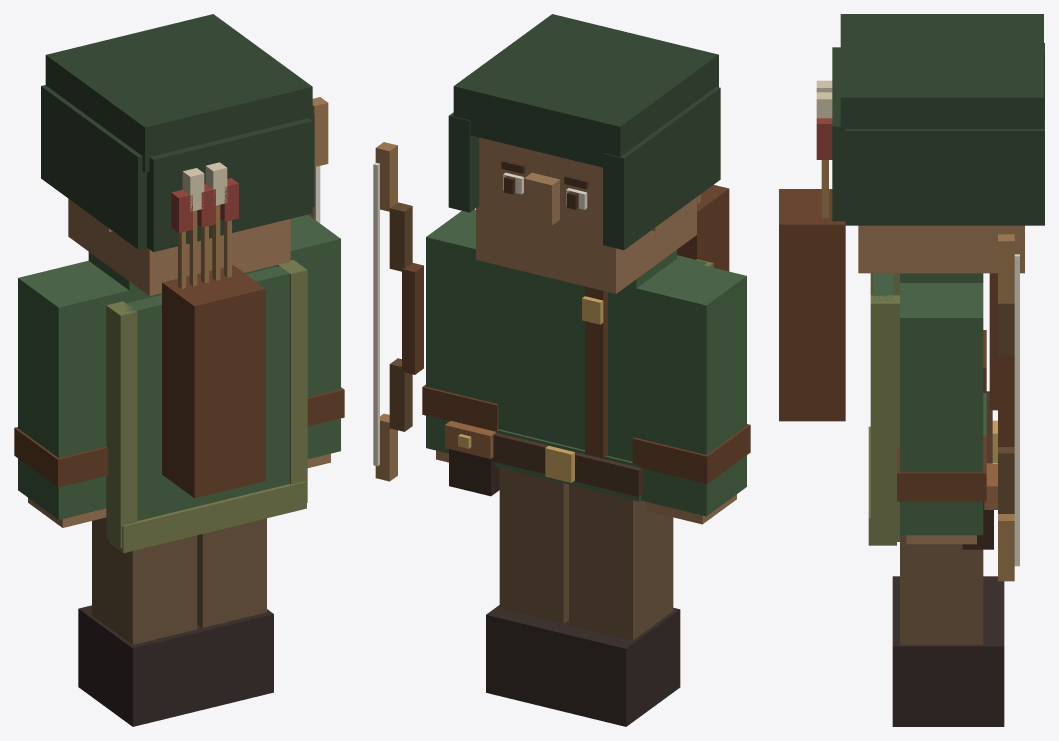
The model's file is hunter.obj.
3 views of the same model, side by side, from view 1: azimuth 30°, elevation 25°; view 2: azimuth 150°, elevation 25°; view 3: azimuth 270°, elevation 25° (orthographic). The views are drawn at different scales.
Parts seen in each view (by area): view 1: head_27_hood_top, equipment_back_40_quiver, right_arm_15_right_arm, equipment_back_31_back_cape, head_30_hood_rear, right_leg_23_right_boot, head_28_hood_left, right_leg_21_right_leg, left_arm_16_left_arm, equipment_back_32_cape_left_edge, head_3_head, left_leg_22_left_leg (+15 smaller); view 2: head_27_hood_top, right_arm_15_right_arm, body_0_chest, head_3_head, right_leg_21_right_leg, left_arm_16_left_arm, head_28_hood_left, right_leg_23_right_boot, left_leg_22_left_leg, left_leg_24_left_boot, body_25_belt, right_arm_17_cuff (+16 smaller); view 3: head_27_hood_top, head_29_hood_right, left_arm_16_left_arm, equipment_back_40_quiver, left_leg_24_left_boot, left_leg_22_left_leg, equipment_back_33_cape_right_edge, head_3_head, left_arm_19_cuff, head_30_hood_rear, equipment_left_56_bow_string, equipment_left_53_bow_grip (+16 smaller).
Boxes of the visible parts, <box> form: head_27_hood_top: <box>45,14,312,172</box>; equipment_back_40_quiver: <box>162,265,265,498</box>; right_arm_15_right_arm: <box>18,260,129,519</box>; equipment_back_31_back_cape: <box>123,266,289,520</box>; head_30_hood_rear: <box>147,118,312,252</box>; right_leg_23_right_boot: <box>78,605,204,726</box>; head_28_hood_left: <box>41,85,146,249</box>; right_leg_21_right_leg: <box>92,517,197,644</box>; left_arm_16_left_arm: <box>270,214,340,458</box>; equipment_back_32_cape_left_edge: <box>106,301,137,548</box>; head_3_head: <box>68,199,290,295</box>; left_leg_22_left_leg: <box>197,518,266,627</box>; head_27_hood_top: <box>453,14,718,167</box>; right_arm_15_right_arm: <box>636,259,746,516</box>; body_0_chest: <box>496,250,676,461</box>; head_3_head: <box>476,137,696,293</box>; right_leg_21_right_leg: <box>569,484,673,640</box>; left_arm_16_left_arm: <box>426,209,495,453</box>; head_28_hood_left: <box>603,87,720,250</box>; right_leg_23_right_boot: <box>555,607,680,726</box>; left_leg_22_left_leg: <box>499,467,568,623</box>; left_leg_24_left_boot: <box>486,605,568,709</box>; body_25_belt: <box>491,433,643,496</box>; right_arm_17_cuff: <box>632,424,750,483</box>; head_27_hood_top: <box>840,14,1043,143</box>; head_29_hood_right: <box>845,120,1044,225</box>; left_arm_16_left_arm: <box>900,283,983,535</box>; equipment_back_40_quiver: <box>779,189,845,421</box>; left_leg_24_left_boot: <box>892,612,1004,726</box>; left_leg_22_left_leg: <box>900,535,983,644</box>; equipment_back_33_cape_right_edge: <box>870,295,899,541</box>; head_3_head: <box>858,225,1024,273</box>; left_arm_19_cuff: <box>897,435,986,501</box>; head_30_hood_rear: <box>832,47,845,221</box>; equipment_left_56_bow_string: <box>1014,254,1019,566</box>; equipment_left_53_bow_grip: <box>998,355,1014,446</box>.
Size of the model in its own units: 1.13 by 2.1 by 0.7969.
